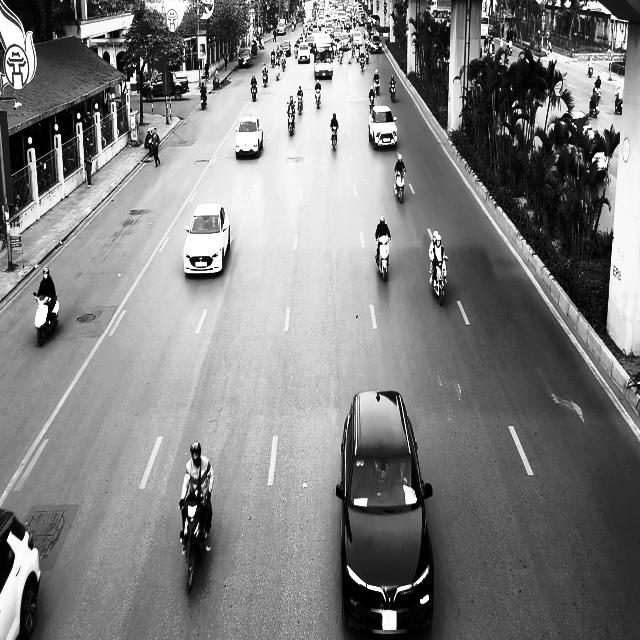car: (336, 389, 434, 636), (0, 508, 41, 640), (183, 202, 230, 276), (234, 114, 264, 159), (368, 105, 398, 150)
motorbike: (179, 494, 210, 593), (33, 291, 59, 346), (429, 254, 447, 304), (375, 235, 391, 281), (394, 167, 406, 203), (287, 106, 295, 134), (330, 126, 338, 150), (389, 81, 396, 102), (314, 88, 321, 108), (200, 91, 207, 110), (250, 84, 258, 100), (297, 96, 303, 114)
